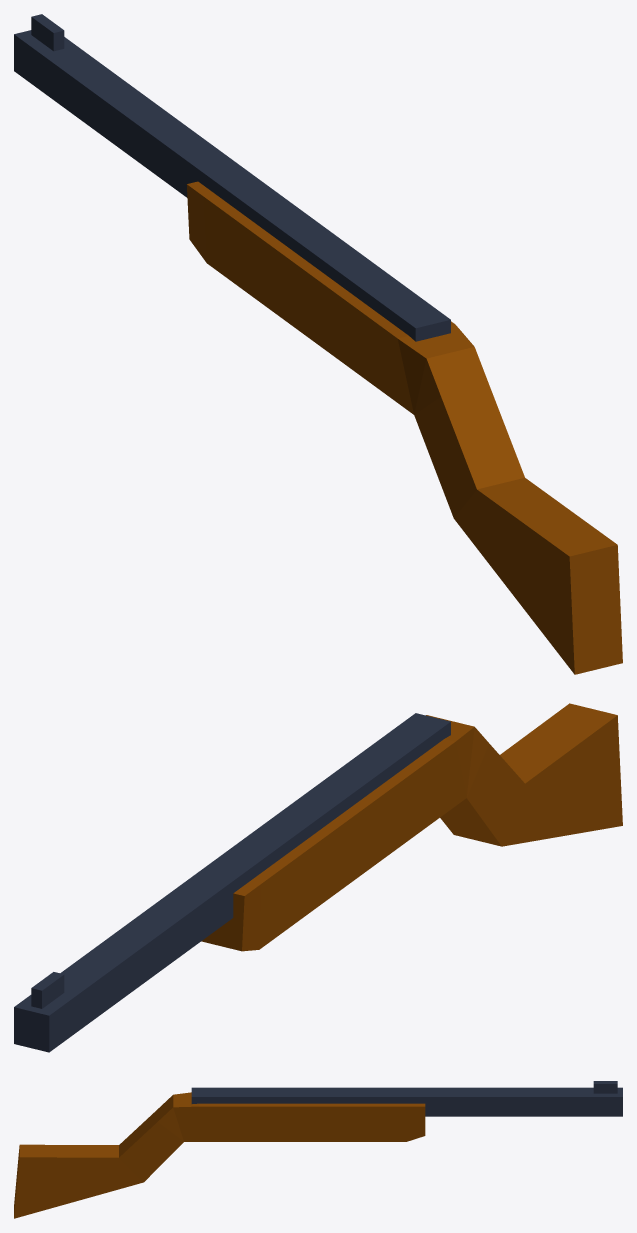
Rendered from weapon_rifle.fbx.
The picture shows the model from 3 angles, top to bottom: view 1: azimuth 30°, elevation 25°; view 2: azimuth 150°, elevation 25°; view 3: azimuth 270°, elevation 25°; orthographic projection. The views are drawn at different scales.
Parts seen in each view (by area): view 1: Cube; view 2: Cube; view 3: Cube.
Boxes of the visible parts, x1,y1,x2,y2 form: Cube: (14,14,622,674); Cube: (14,703,622,1052); Cube: (14,1081,622,1218).
Size of the model in its own units: 12 by 48.01 by 204.
